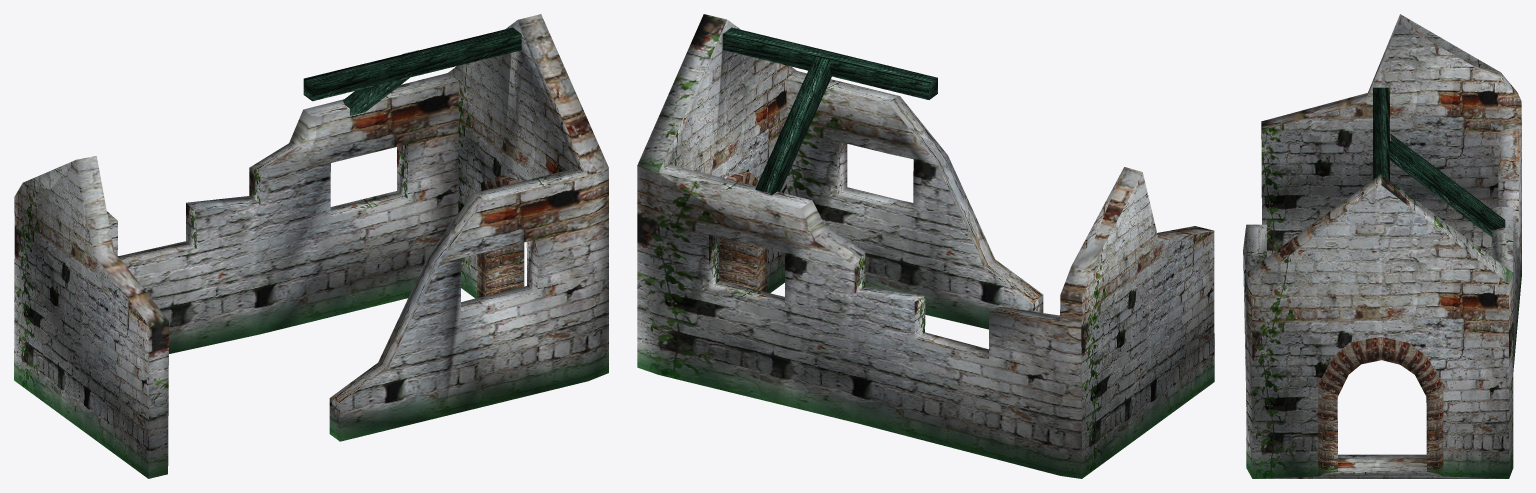
The model's file is house_abandoned.obj.
The picture shows the model from 3 angles, left to right: view 1: azimuth 30°, elevation 25°; view 2: azimuth 150°, elevation 25°; view 3: azimuth 270°, elevation 25°; orthographic projection. The views are drawn at different scales.
Bounding box in the file's own units: 362 × 231 × 199.
1 material, 1 textured.
